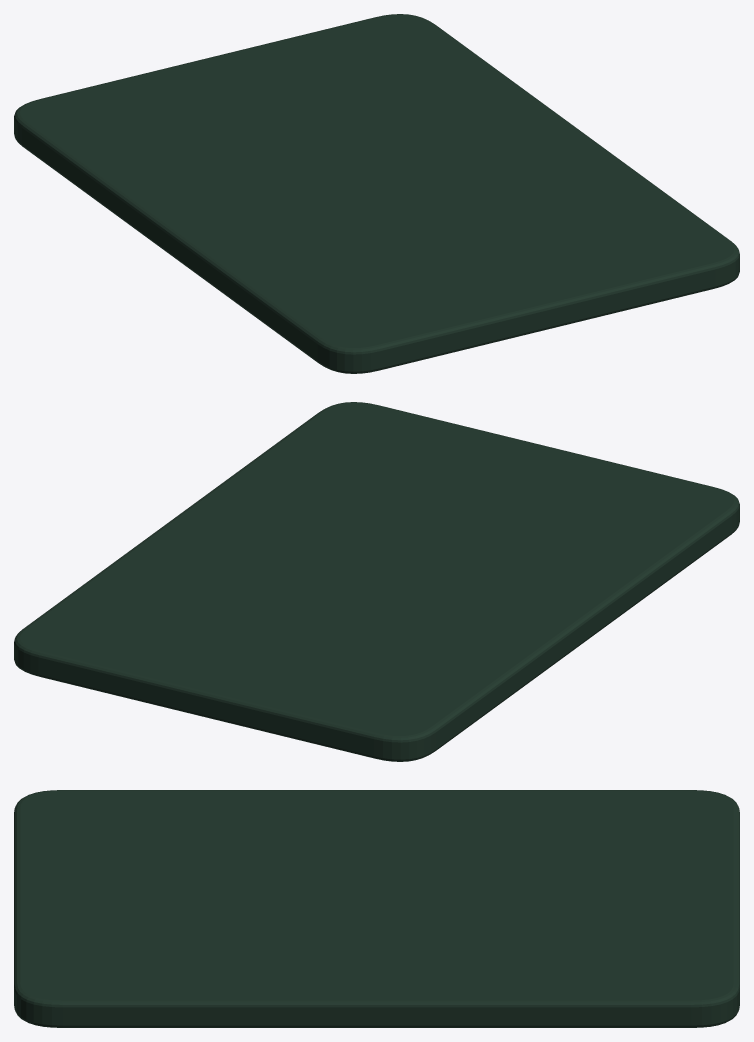
The model's file is playing-card.glb.
3 views of the same model, one above another, from view 1: azimuth 30°, elevation 25°; view 2: azimuth 150°, elevation 25°; view 3: azimuth 270°, elevation 25° (orthographic). The views are drawn at different scales.
Visible parts, largest first — view 1: CardBody; view 2: CardBody; view 3: CardBody.
Boxes of the visible parts, x1,y1,x2,y2 form: CardBody: (14,14,739,373); CardBody: (14,402,739,761); CardBody: (14,790,739,1027).
Size of the model in its own units: 0.656 by 0.038 by 0.936.
